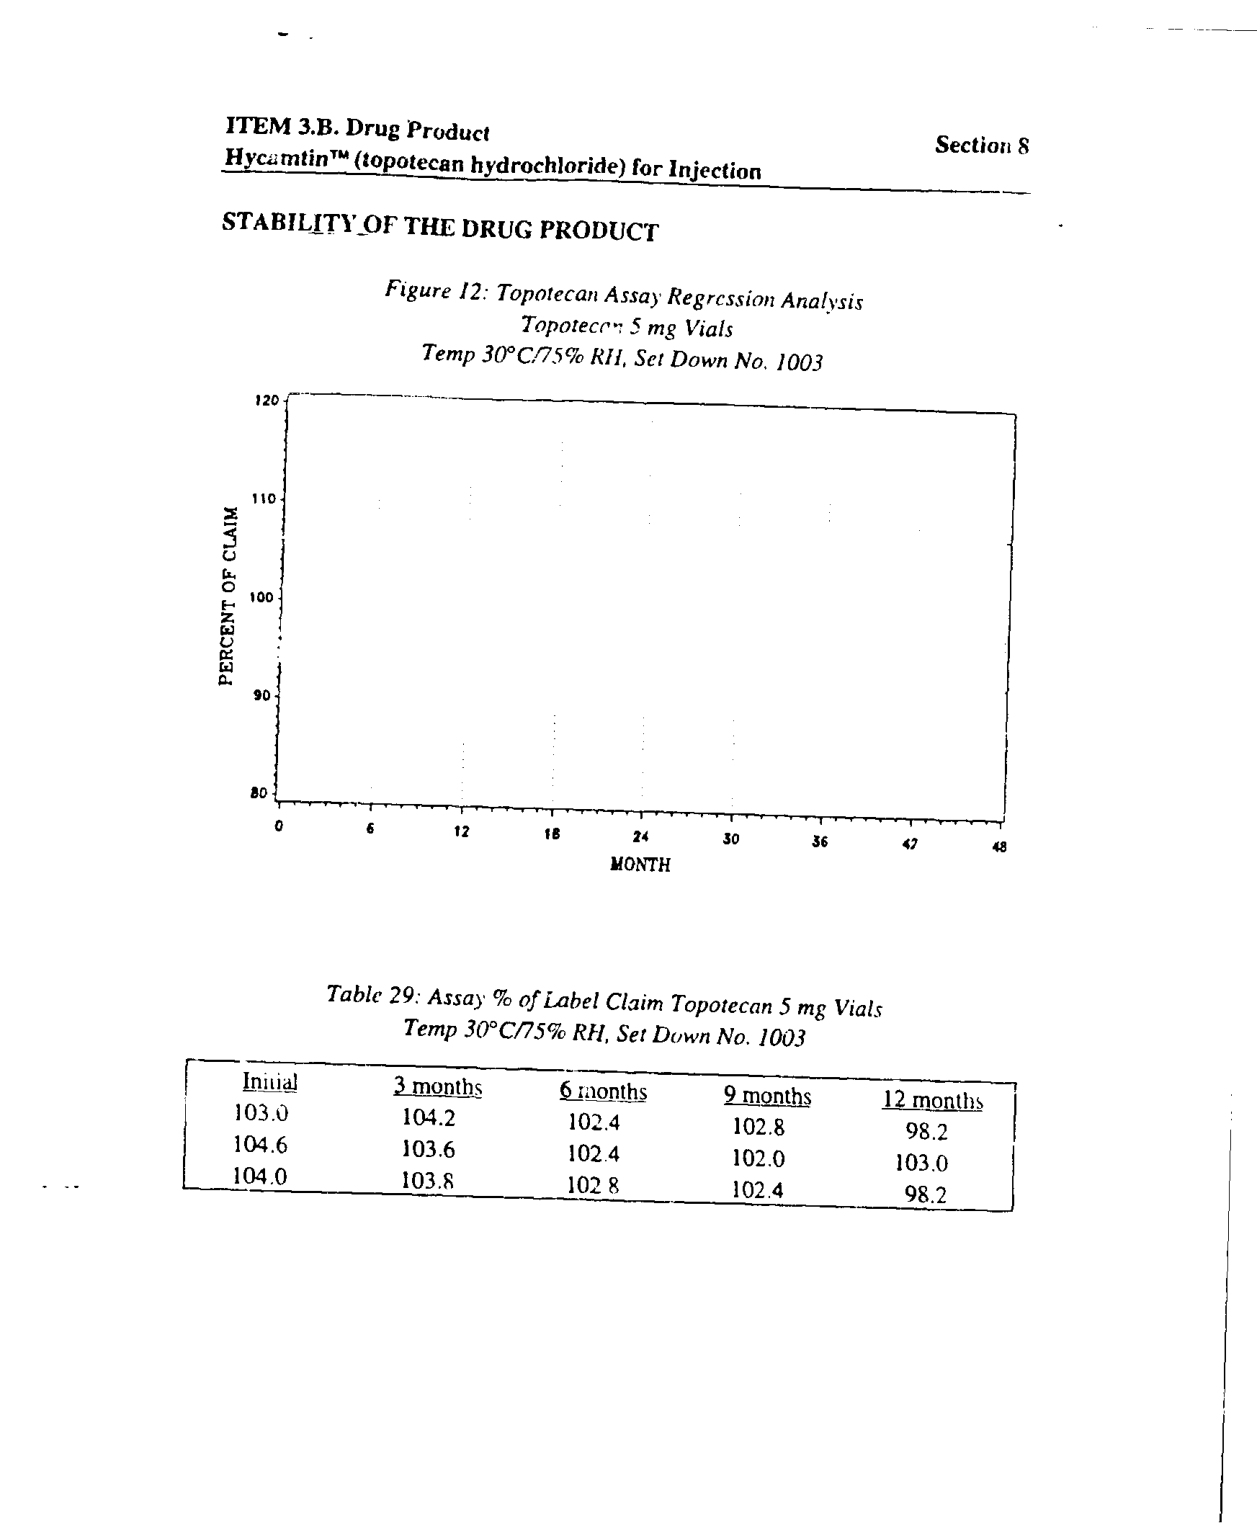partial_lined: (180, 1055, 1018, 1217)
